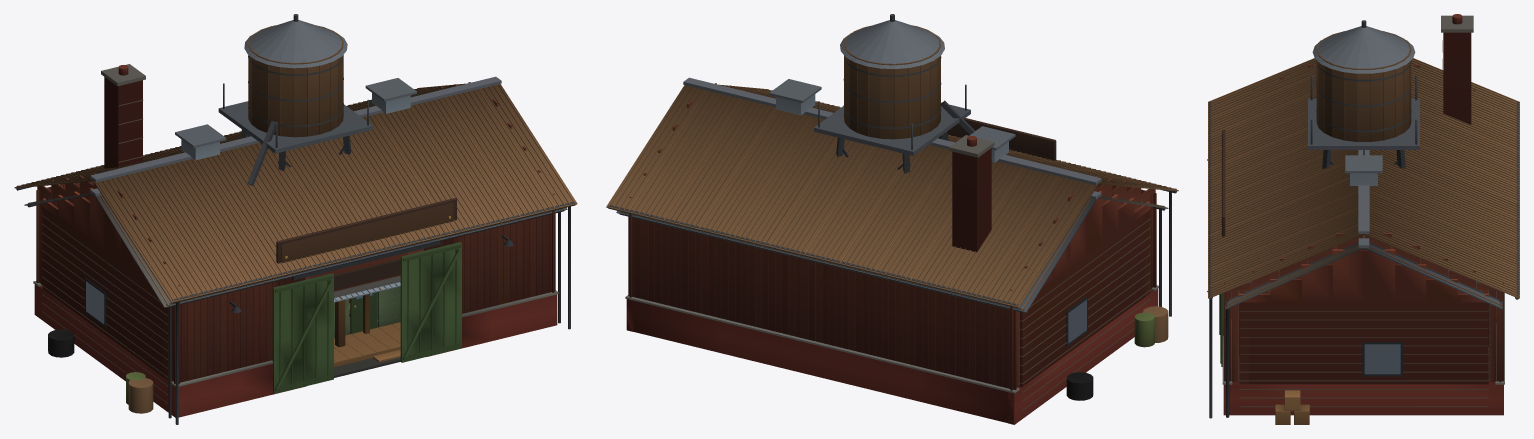
File: site.glb
The picture shows the model from 3 angles, left to right: view 1: azimuth 30°, elevation 25°; view 2: azimuth 150°, elevation 25°; view 3: azimuth 270°, elevation 25°; orthographic projection. The views are drawn at different scales.
Visible parts, largest first — view 1: barn_roof, barn_front, site_workshop_mesh, site_barn_mesh, site_water_tower_mesh, site_office_mesh, ws_front, ws_roof, office_front; view 2: barn_roof, site_barn_mesh, site_workshop_mesh, site_water_tower_mesh, ws_roof, barn_front; view 3: barn_roof, site_workshop_mesh, site_barn_mesh, site_water_tower_mesh, ws_roof, ws_front, barn_front.
Boxes of the visible parts, x1,y1,x2,y2 form: barn_roof: [14, 76, 577, 303]; barn_front: [174, 198, 555, 393]; site_workshop_mesh: [27, 64, 564, 418]; site_barn_mesh: [16, 82, 575, 424]; site_water_tower_mesh: [218, 14, 377, 321]; site_office_mesh: [334, 282, 400, 367]; ws_front: [163, 248, 424, 380]; ws_roof: [24, 188, 567, 307]; office_front: [334, 286, 400, 333]; barn_roof: [606, 77, 1178, 307]; site_barn_mesh: [608, 83, 1176, 424]; site_workshop_mesh: [619, 135, 1165, 410]; site_water_tower_mesh: [814, 14, 974, 173]; ws_roof: [616, 191, 1168, 312]; barn_front: [947, 118, 1156, 287]; barn_roof: [1208, 58, 1519, 298]; site_workshop_mesh: [1225, 14, 1502, 424]; site_barn_mesh: [1209, 64, 1518, 418]; site_water_tower_mesh: [1308, 20, 1419, 168]; ws_roof: [1225, 235, 1502, 309]; ws_front: [1238, 302, 1248, 384]; barn_front: [1207, 129, 1228, 366].
Bounding box in the file's own units: 15.86 × 10.71 × 10.05.
